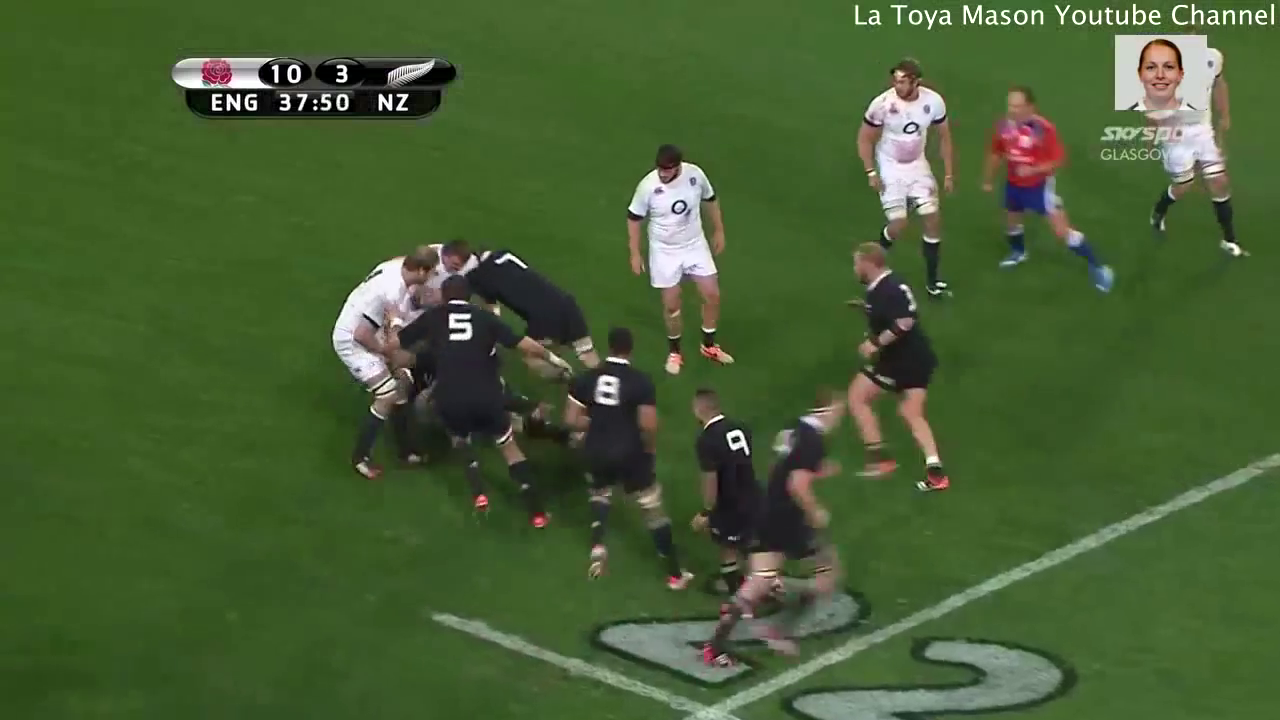maul: (319, 236, 640, 501)
player: (693, 384, 854, 677), (392, 276, 563, 537), (553, 323, 703, 595), (832, 237, 959, 497), (972, 83, 1126, 296), (617, 141, 746, 375), (851, 57, 964, 314), (326, 243, 444, 487), (456, 240, 612, 384), (677, 384, 754, 581)
